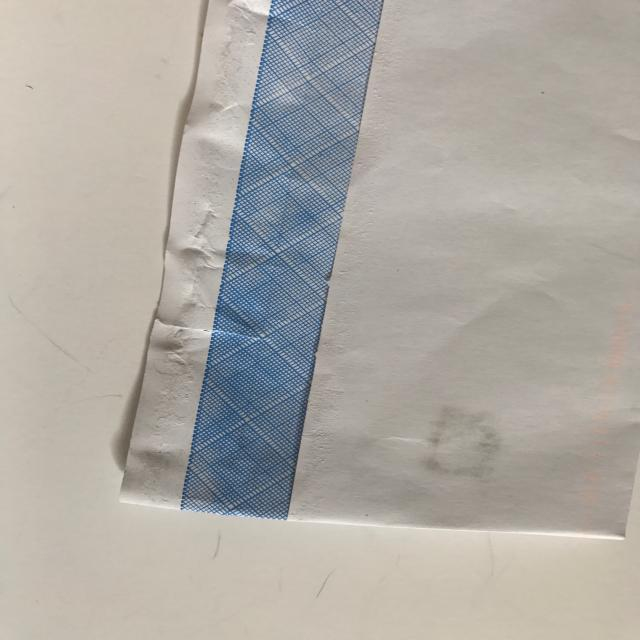paper: (110, 1, 640, 542)
